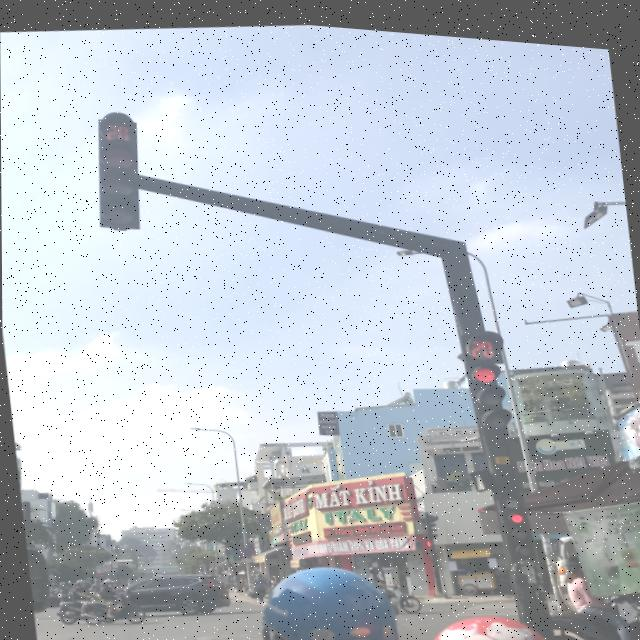Red: (461, 347, 520, 434), (499, 494, 537, 558)
